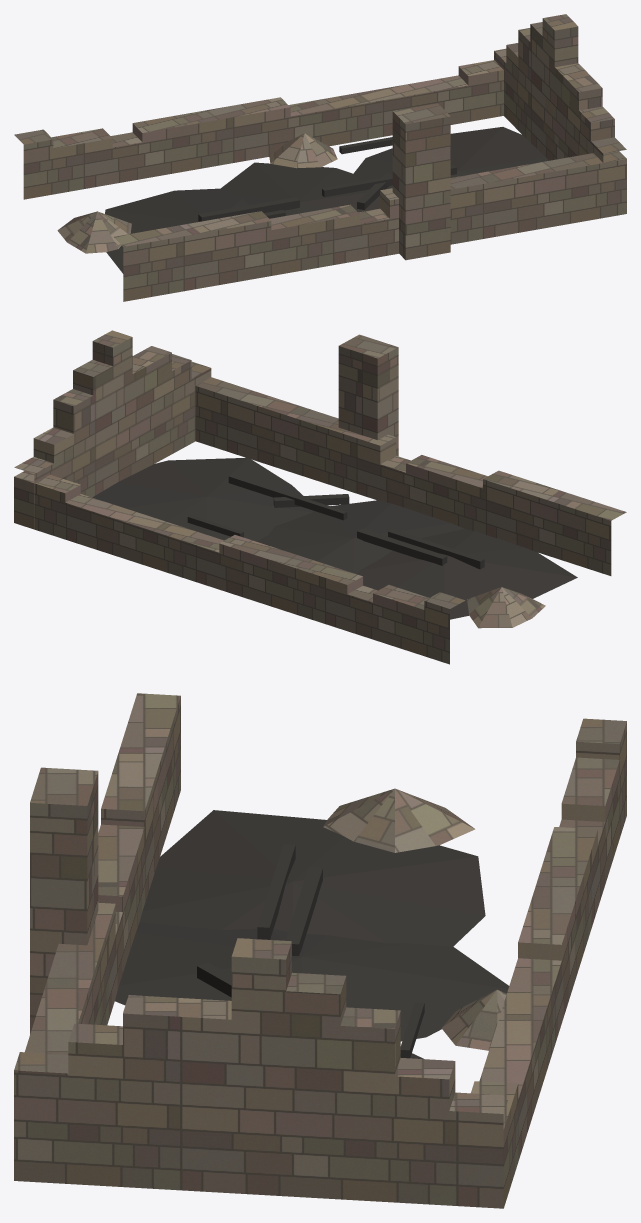
3 renders of one model, top to bottom at view 1: azimuth 30°, elevation 25°; view 2: azimuth 150°, elevation 25°; view 3: azimuth 270°, elevation 25°, orthographic. The views are drawn at different scales.
Parts seen in each view (by area): view 1: b001084_ruin_wall, b001084_ruin_char; view 2: b001084_ruin_wall, b001084_ruin_char; view 3: b001084_ruin_wall, b001084_ruin_char.
Part boxes in pixels (x1,y1,x2,y2): b001084_ruin_wall: (14,14,626,301); b001084_ruin_char: (105,127,548,273); b001084_ruin_wall: (14,330,626,664); b001084_ruin_char: (92,457,577,619); b001084_ruin_wall: (14,693,626,1208); b001084_ruin_char: (115,810,509,1059).
Bounding box in the file's own units: 14.3 × 3.75 × 8.8.
2 materials, 1 textured.
